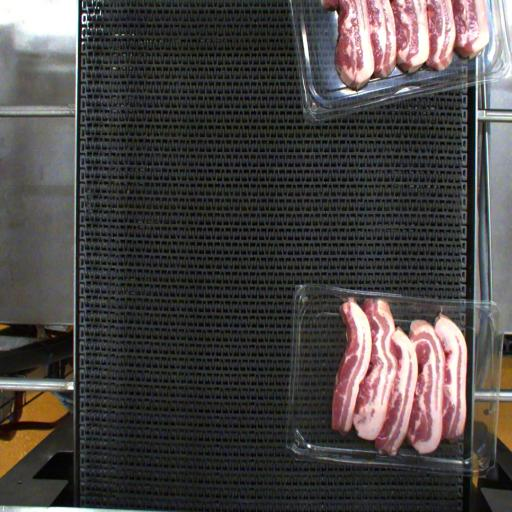packaging-error: (339, 286, 365, 318), (361, 283, 398, 305), (430, 288, 446, 318)
